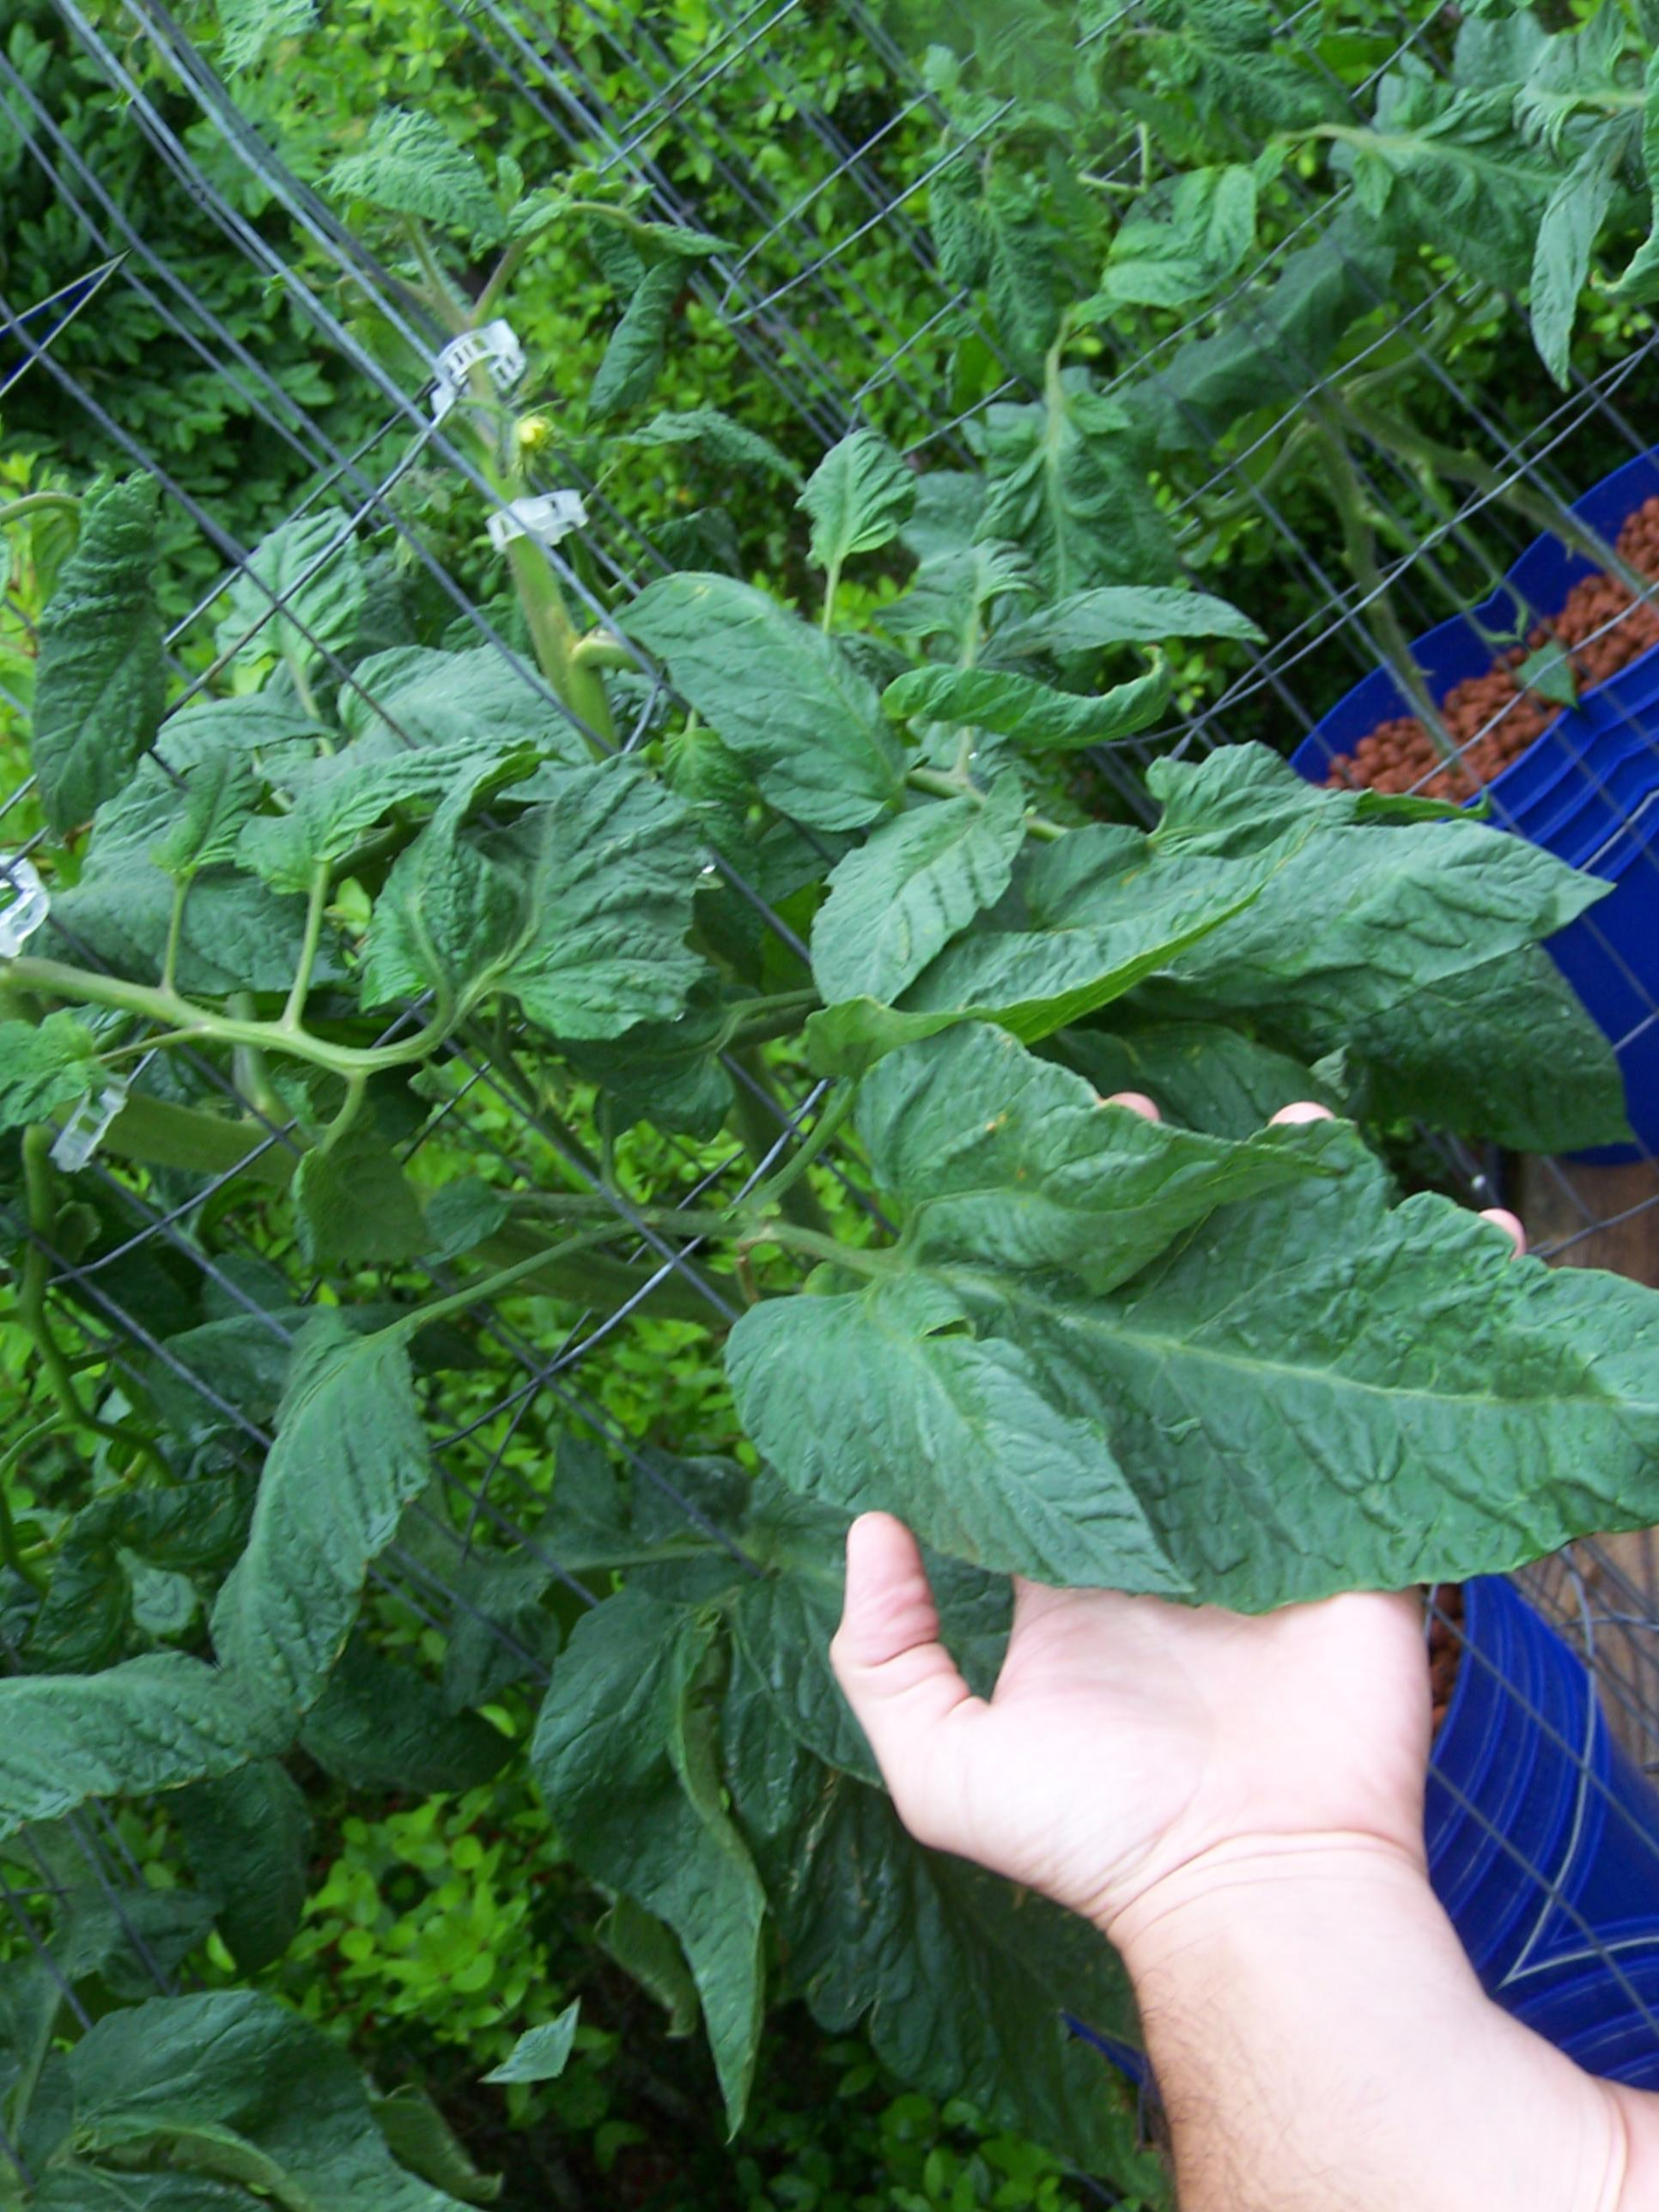Tomato leaf: (713, 803, 1659, 1996), (964, 613, 1621, 1249), (115, 1320, 518, 1714), (589, 524, 962, 920), (423, 758, 760, 1087), (746, 758, 1089, 1078), (0, 932, 136, 1251), (748, 401, 951, 597)
